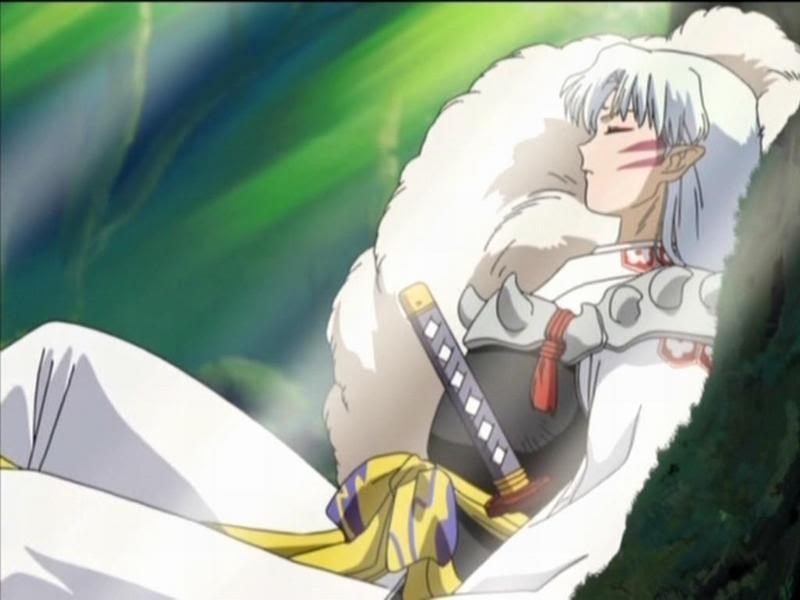sesshomaru: (527, 39, 764, 302)
